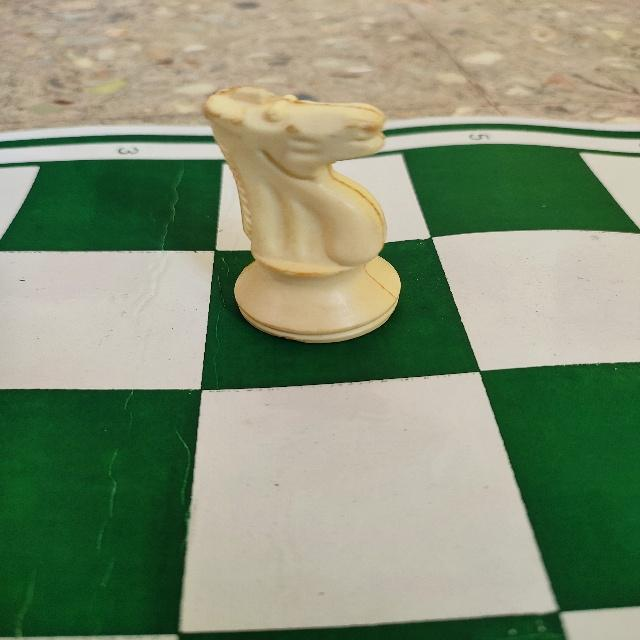Knight: (200, 81, 404, 347)
